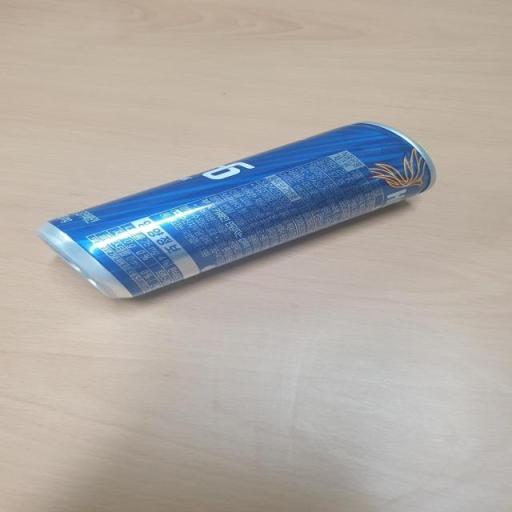metal: (17, 114, 444, 316)
